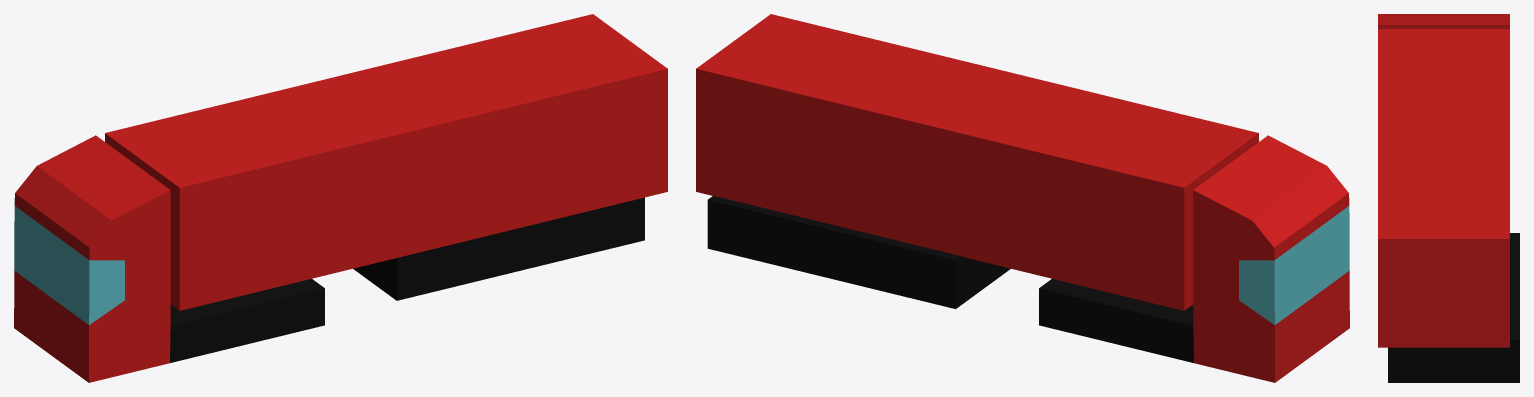
Rendered from truck.obj.
3 renders of one model, left to right at view 1: azimuth 30°, elevation 25°; view 2: azimuth 150°, elevation 25°; view 3: azimuth 270°, elevation 25°, orthographic. The views are drawn at different scales.
Parts seen in each view (by area): view 1: Cube; view 2: Cube; view 3: Cube.
Boxes of the visible parts, box(x1,y1,x2,y2) form: Cube: box(14, 14, 667, 382); Cube: box(696, 14, 1349, 382); Cube: box(1378, 14, 1519, 382).
Size of the model in its own units: 8.94 by 2.55 by 2.15.
